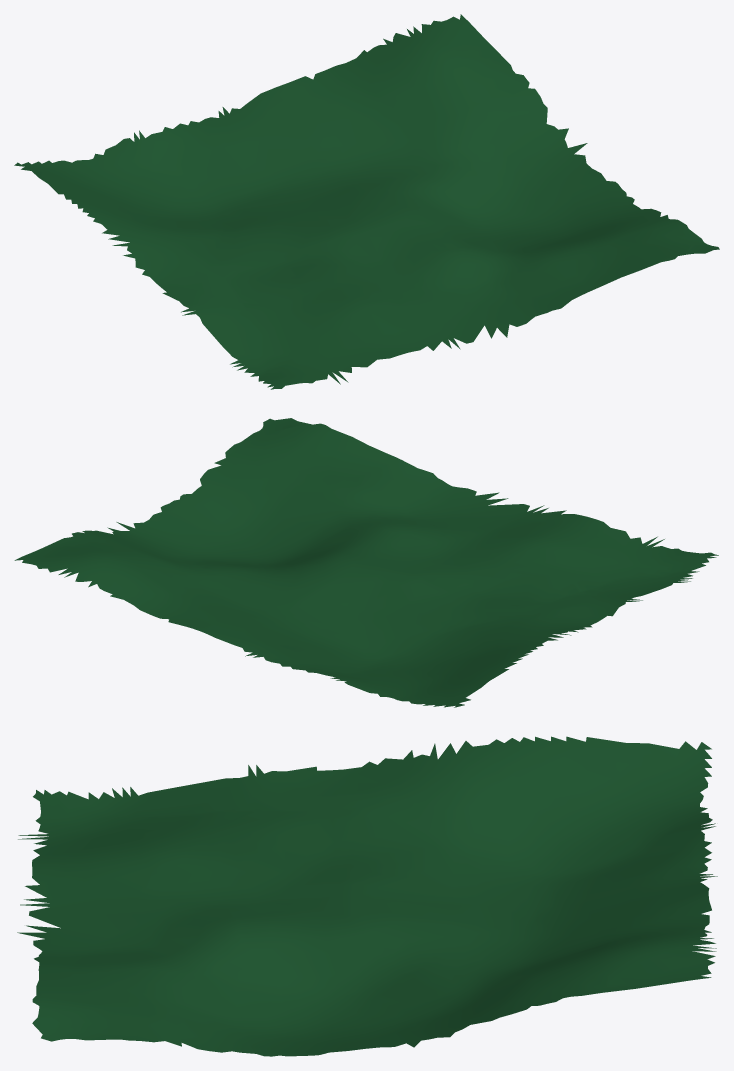
The model's file is payo_land_x3_y2_lod1.glb.
The picture shows the model from 3 angles, top to bottom: view 1: azimuth 30°, elevation 25°; view 2: azimuth 150°, elevation 25°; view 3: azimuth 270°, elevation 25°; orthographic projection. The views are drawn at different scales.
Parts seen in each view (by area): view 1: payo_land_x3_y2; view 2: payo_land_x3_y2; view 3: payo_land_x3_y2.
Part boxes in pixels (x1,y1,x2,y2): payo_land_x3_y2: (14, 14, 719, 389); payo_land_x3_y2: (14, 418, 718, 707); payo_land_x3_y2: (17, 736, 717, 1056).
Size of the model in its own units: 269 by 43.62 by 269.
